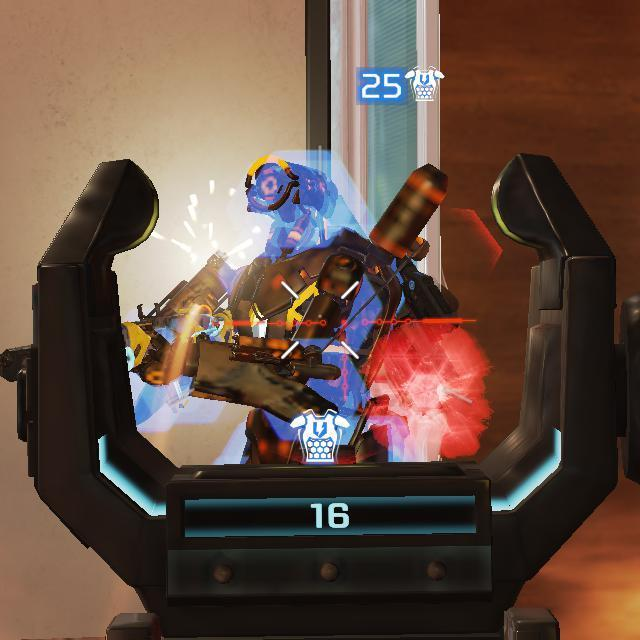avatar: (193, 152, 466, 466)
object: (358, 318, 495, 464)
